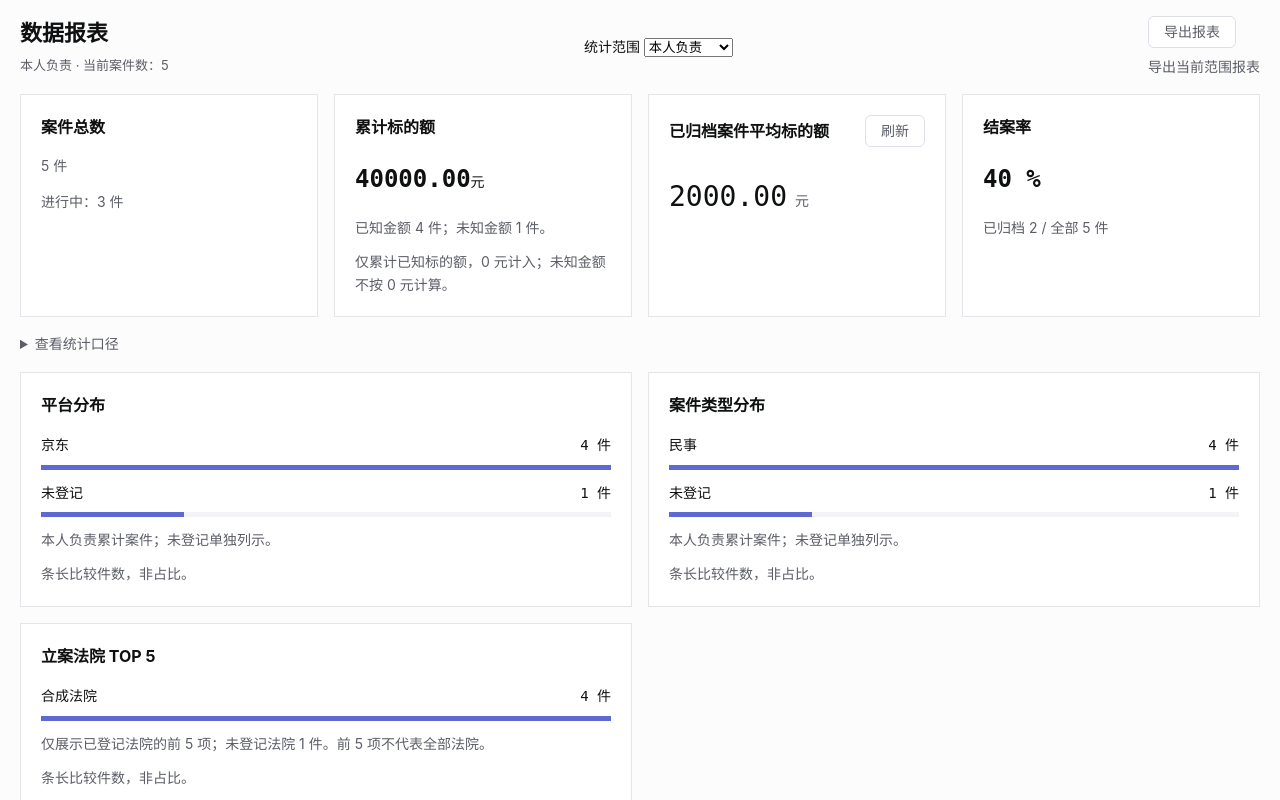
real RP001 reports page › shows a safe HTTP403 export failure without downloading or automatic retry
This screenshot has width=1280, height=800.
Click the button with test id "export-reports" at (1192, 32), box top-left (1148, 16), bottom-right (1236, 48)
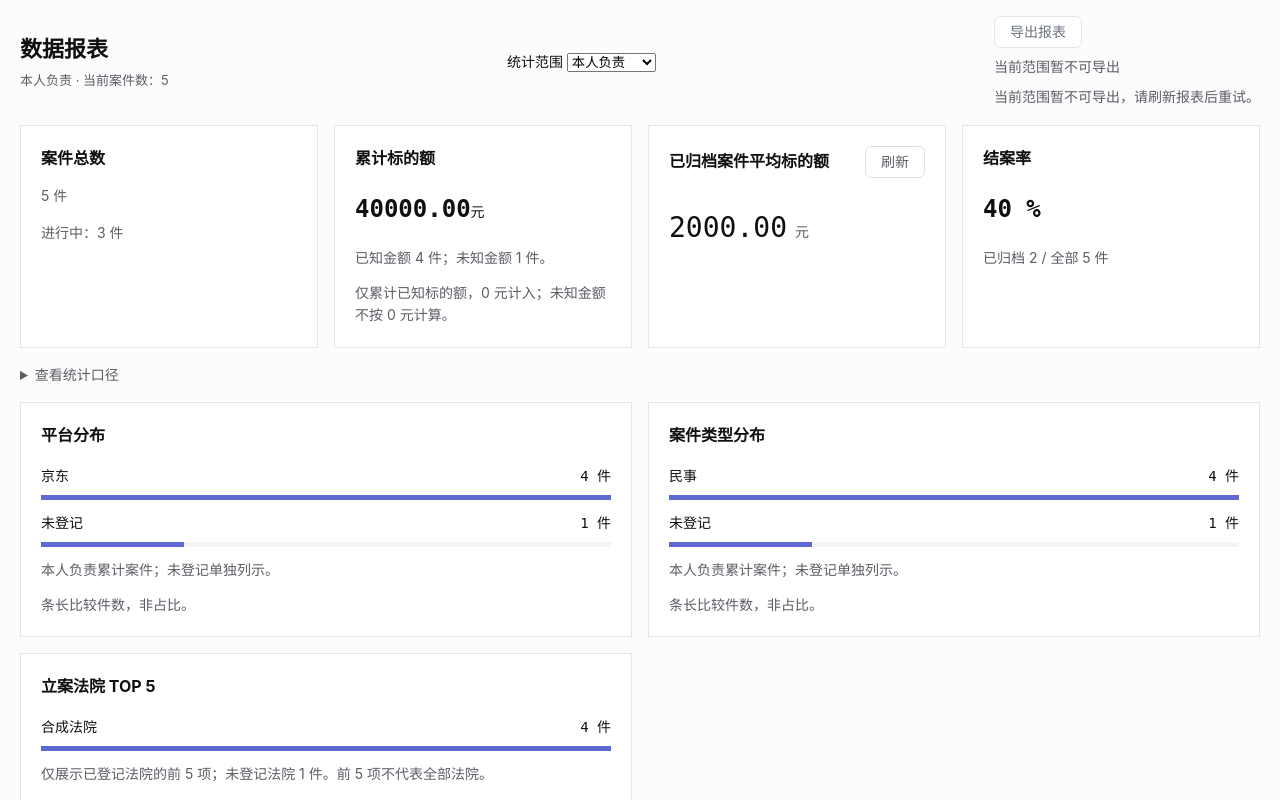
Expected: the message with test id "report-export-error" shows "当前范围暂不可导出", top-left (994, 88), bottom-right (1260, 105)
Expected: the button with test id "export-reports" is disabled, top-left (994, 16), bottom-right (1082, 48)
